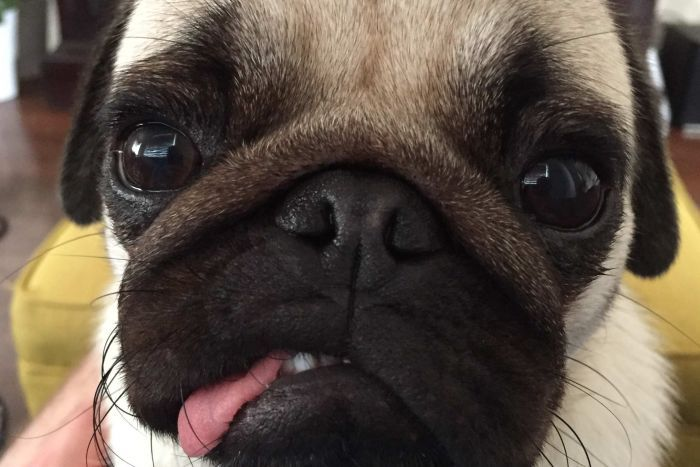dog: (60, 1, 684, 464)
